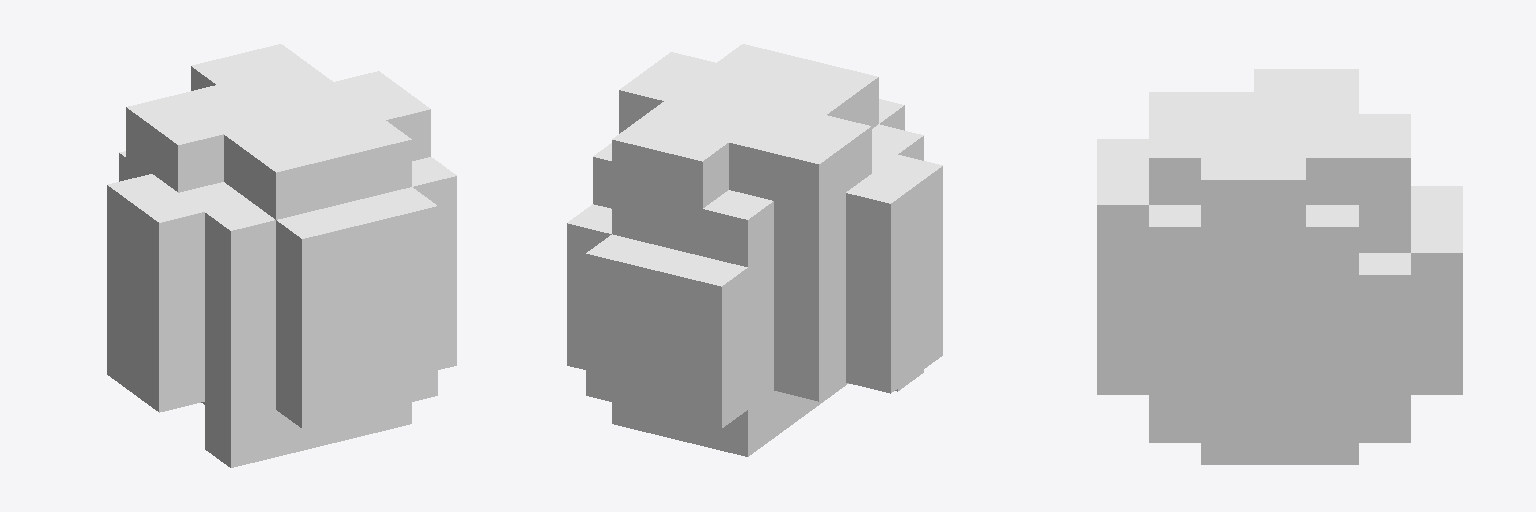
The model's file is potato.obj.
3 renders of one model, left to right at view 1: azimuth 30°, elevation 25°; view 2: azimuth 150°, elevation 25°; view 3: azimuth 270°, elevation 25°, orthographic.
Visible parts, largest first — view 1: object 1; view 2: object 1; view 3: object 1.
Part boxes in pixels (left/top/right/bottom): object 1: left=107, top=44, right=456, bottom=467; object 1: left=567, top=44, right=942, bottom=456; object 1: left=1097, top=69, right=1462, bottom=464.
Size of the model in its own units: 0.6 by 0.6 by 0.7.